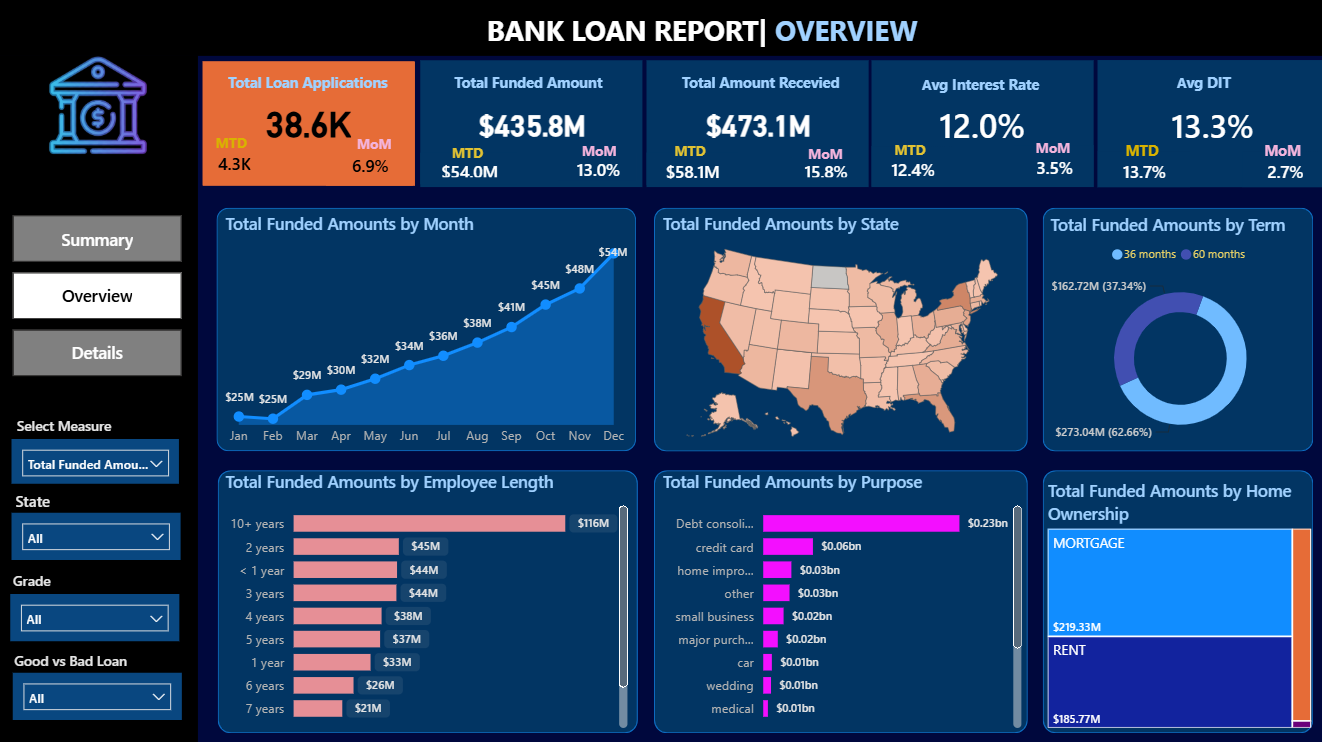

The dashboard page shown, as its layout file describes it:
{"tool":"powerbi","page":{"name":"Overview","canvas":[1280,720],"ordinal":1},"visuals":[{"type":"cardVisual","fields":{"Data":["financial_loan.Total Funded Amounts"]},"box":[406.6,59,214.1,122.1],"z":0,"group":"g1"},{"type":"cardVisual","fields":{"Data":["financial_loan.Avg DTI"]},"box":[1060.7,59,220.1,122.1],"z":0,"group":"g3"},{"type":"cardVisual","fields":{"Data":["financial_loan.Total Amount Received"]},"box":[624.7,59.1,214,122],"z":0,"group":"g4"},{"type":"cardVisual","fields":{"Data":["financial_loan.Total Loan Applications"]},"box":[196.2,59.9,204.6,119.8],"z":0},{"type":"cardVisual","fields":{"Data":["financial_loan.Avg Interest Rate"]},"box":[841.9,59,214.1,122.1],"z":1000,"group":"g2"},{"type":"textbox","box":[434,65.9,172.9,32.9],"z":1000,"group":"g1"},{"type":"textbox","box":[653.5,66,183.9,38.4],"z":1000,"group":"g4"},{"type":"cardVisual","fields":{"Data":["financial_loan.MTD Avg DIT"]},"box":[1060.7,146.8,88.9,34.3],"z":1000,"group":"g3"},{"type":"shape","box":[209.9,201.7,405,235],"z":1000},{"type":"shape","box":[0,0,1280,54.9],"z":2000},{"type":"cardVisual","fields":{"Data":["financial_loan.MoM Avg DIT"]},"box":[1200.4,146.8,80.4,34.3],"z":2000,"group":"g3"},{"type":"cardVisual","title":"MTD ","fields":{"Data":["financial_loan.MTD Amount Recevied"]},"box":[624.7,148.3,87.8,31.6],"z":2000,"group":"g4"},{"type":"cardVisual","title":"MTD ","fields":{"Data":["financial_loan.MTD Funded Amount"]},"box":[406.6,148.4,93.7,30.2],"z":2000,"group":"g1"},{"type":"textbox","box":[1081.9,131.7,48,34.3],"z":3000,"group":"g3"},{"type":"cardVisual","title":"MoM","fields":{"Data":["financial_loan.MoM Loan Applications"]},"box":[315.7,137.1,83.5,42.1],"z":3000},{"type":"cardVisual","title":"MTD ","fields":{"Data":["financial_loan.MoM Funded Amount"]},"box":[533.9,143.4,86.7,37.8],"z":3000,"group":"g1"},{"type":"cardVisual","title":"MTD ","fields":{"Data":["financial_loan.MoM Amount Recevied"]},"box":[757.8,148.3,79.6,30.2],"z":3000,"group":"g4"},{"type":"shape","box":[0,54.9,192.1,665.5],"z":4000},{"type":"textbox","box":[1215.9,131.7,52.2,34.3],"z":4000,"group":"g3"},{"type":"textbox","box":[557.7,132,51.8,29],"z":4000,"group":"g1"},{"type":"textbox","box":[775.6,134.6,45.3,31.6],"z":4000,"group":"g4"},{"type":"textbox","box":[1132.1,65.9,130.4,34.3],"z":5000,"group":"g3"},{"type":"textbox","box":[216.4,66.9,172.8,32.3],"z":5000},{"type":"textbox","box":[646.7,133.2,43.9,32.9],"z":5000,"group":"g4"},{"type":"textbox","box":[431.8,133.3,46.2,32.7],"z":5000,"group":"g1"},{"type":"cardVisual","title":"MTD ","fields":{"Data":["financial_loan.MTD Loan Applications"]},"box":[197.7,135.7,57.6,42.1],"z":6000},{"type":"textbox","box":[466,7.2,427.1,47.6],"z":7000},{"type":"textbox","box":[885.8,67.2,172.9,34.3],"z":7000,"group":"g2"},{"type":"textbox","box":[340.3,125.7,59,30.2],"z":8000},{"type":"cardVisual","fields":{"Data":["financial_loan.MoM Interest rate"]},"box":[979.1,141.3,76.8,39.8],"z":8000,"group":"g2"},{"type":"textbox","box":[203.4,124.5,49,29.5],"z":9000},{"type":"cardVisual","fields":{"Data":["financial_loan.MTD Avg Interest rate"]},"box":[841.9,142.7,78.2,38.4],"z":9000,"group":"g2"},{"type":"group","id":"g1","title":"Group 3","box":[406.6,59,214.1,122.1],"z":10000},{"type":"textbox","box":[995.6,129,52.1,28.8],"z":10000,"group":"g2"},{"type":"group","id":"g2","title":"Group 5","box":[841.9,59,216.8,122.1],"z":11000},{"type":"textbox","box":[858.4,131.7,46.7,32.9],"z":11000,"group":"g2"},{"type":"group","id":"g3","title":"Group 4","box":[1060.7,59,219.6,122.1],"z":12000},{"type":"group","id":"g4","title":"Group 1","box":[624.7,59.1,214.1,122.1],"z":13000},{"type":"slicer","fields":{"Values":["financial_loan.address_state"]},"box":[11.8,495.7,162.9,45.8],"z":14000},{"type":"textbox","box":[10.6,469.2,66.4,35],"z":15000},{"type":"slicer","fields":{"Values":["financial_loan.grade"]},"box":[10.6,574.1,162.9,45.8],"z":16000},{"type":"slicer","fields":{"Values":["financial_loan.Good vs Bad Loan"]},"box":[13,650.1,162.9,45.8],"z":17000},{"type":"textbox","box":[8.2,547.6,73.6,35],"z":18000},{"type":"textbox","box":[9.4,624.6,133.9,35],"z":19000},{"type":"areaChart","fields":{"Y":["financial_loan.Total Amount Received"],"Category":["Date Table.Month"]},"box":[213.5,204.9,398.2,235.2],"z":20000},{"type":"slicer","fields":{"Values":["Select Measure.Select Measure"]},"box":[11.8,424.5,161.7,43.4],"z":21000},{"type":"textbox","box":[11.8,397.8,102.5,51.9],"z":22000},{"type":"shape","box":[631.9,202,360.7,235.2],"z":23000},{"type":"shapeMap","fields":{"Value":["financial_loan.Total Amount Received"],"Category":["financial_loan.address_state"]},"box":[636.3,204.9,356.4,232.3],"z":24000},{"type":"shape","box":[1007,202,261.1,235.2],"z":25000},{"type":"donutChart","fields":{"Y":["financial_loan.Total Amount Received"],"Category":["financial_loan.term"]},"box":[1009.9,206.3,261.1,232.3],"z":26000},{"type":"shape","box":[210.6,454.5,405.4,253.9],"z":27000},{"type":"barChart","fields":{"Y":["financial_loan.Total Amount Received"],"Category":["financial_loan.emp_length"]},"box":[213.5,454.5,398.2,253.9],"z":28000},{"type":"shape","box":[631.9,454.5,360.7,253.9],"z":29000},{"type":"barChart","fields":{"Y":["financial_loan.Total Amount Received"],"Category":["financial_loan.purpose"]},"box":[636.3,454.5,356.4,253.9],"z":30000},{"type":"shape","box":[1007,454.5,261.1,253.9],"z":31000},{"type":"treemap","fields":{"Values":["financial_loan.Total Amount Received"],"Group":["financial_loan.home_ownership"]},"box":[1007,463.1,264,245.3],"z":32000},{"type":"pageNavigator","box":[13,209.2,163,155.8],"z":33000},{"type":"image","box":[10.1,0,163,202],"z":34000}]}

Visuals, with their boxes in screenshot pixels (x1, y1, x2, y2), scaled from the page's 1280x720 canvas onto the 1322x742 screenshot:
cardVisual - financial_loan.Total Funded Amounts: (x1=420, y1=61, x2=641, y2=187)
cardVisual - financial_loan.Avg DTI: (x1=1096, y1=61, x2=1321, y2=187)
cardVisual - financial_loan.Total Amount Received: (x1=645, y1=61, x2=866, y2=187)
cardVisual - financial_loan.Total Loan Applications: (x1=203, y1=62, x2=414, y2=185)
cardVisual - financial_loan.Avg Interest Rate: (x1=870, y1=61, x2=1091, y2=187)
textbox: (x1=448, y1=68, x2=627, y2=102)
textbox: (x1=675, y1=68, x2=865, y2=108)
cardVisual - financial_loan.MTD Avg DIT: (x1=1096, y1=151, x2=1187, y2=187)
shape: (x1=217, y1=208, x2=635, y2=450)
shape: (x1=0, y1=0, x2=1321, y2=57)
cardVisual - financial_loan.MoM Avg DIT: (x1=1240, y1=151, x2=1321, y2=187)
"MTD " cardVisual: (x1=645, y1=153, x2=736, y2=185)
"MTD " cardVisual: (x1=420, y1=153, x2=517, y2=184)
textbox: (x1=1117, y1=136, x2=1167, y2=171)
"MoM" cardVisual: (x1=326, y1=141, x2=412, y2=185)
"MTD " cardVisual: (x1=551, y1=148, x2=641, y2=187)
"MTD " cardVisual: (x1=783, y1=153, x2=865, y2=184)
shape: (x1=0, y1=57, x2=198, y2=741)
textbox: (x1=1256, y1=136, x2=1310, y2=171)
textbox: (x1=576, y1=136, x2=629, y2=166)
textbox: (x1=801, y1=139, x2=848, y2=171)
textbox: (x1=1169, y1=68, x2=1304, y2=103)
textbox: (x1=224, y1=69, x2=402, y2=102)
textbox: (x1=668, y1=137, x2=713, y2=171)
textbox: (x1=446, y1=137, x2=494, y2=171)
"MTD " cardVisual: (x1=204, y1=140, x2=264, y2=183)
textbox: (x1=481, y1=7, x2=922, y2=56)
textbox: (x1=915, y1=69, x2=1093, y2=105)
textbox: (x1=351, y1=130, x2=412, y2=161)
cardVisual - financial_loan.MoM Interest rate: (x1=1011, y1=146, x2=1091, y2=187)
textbox: (x1=210, y1=128, x2=261, y2=159)
cardVisual - financial_loan.MTD Avg Interest rate: (x1=870, y1=147, x2=950, y2=187)
"Group 3" group: (x1=420, y1=61, x2=641, y2=187)
textbox: (x1=1028, y1=133, x2=1082, y2=163)
"Group 5" group: (x1=870, y1=61, x2=1093, y2=187)
textbox: (x1=887, y1=136, x2=935, y2=170)
"Group 4" group: (x1=1096, y1=61, x2=1321, y2=187)
"Group 1" group: (x1=645, y1=61, x2=866, y2=187)
slicer - financial_loan.address_state: (x1=12, y1=511, x2=180, y2=558)
textbox: (x1=11, y1=484, x2=80, y2=520)
slicer - financial_loan.grade: (x1=11, y1=592, x2=179, y2=639)
slicer - financial_loan.Good vs Bad Loan: (x1=13, y1=670, x2=182, y2=717)
textbox: (x1=8, y1=564, x2=84, y2=600)
textbox: (x1=10, y1=644, x2=148, y2=680)
areaChart - financial_loan.Total Amount Received x Date Table.Month: (x1=221, y1=211, x2=632, y2=454)
slicer - Select Measure.Select Measure: (x1=12, y1=437, x2=179, y2=482)
textbox: (x1=12, y1=410, x2=118, y2=463)
shape: (x1=653, y1=208, x2=1025, y2=451)
shapeMap - financial_loan.Total Amount Received x financial_loan.address_state: (x1=657, y1=211, x2=1025, y2=451)
shape: (x1=1040, y1=208, x2=1310, y2=451)
donutChart - financial_loan.Total Amount Received x financial_loan.term: (x1=1043, y1=213, x2=1313, y2=452)
shape: (x1=218, y1=468, x2=636, y2=730)
barChart - financial_loan.Total Amount Received x financial_loan.emp_length: (x1=221, y1=468, x2=632, y2=730)
shape: (x1=653, y1=468, x2=1025, y2=730)
barChart - financial_loan.Total Amount Received x financial_loan.purpose: (x1=657, y1=468, x2=1025, y2=730)
shape: (x1=1040, y1=468, x2=1310, y2=730)
treemap - financial_loan.Total Amount Received x financial_loan.home_ownership: (x1=1040, y1=477, x2=1313, y2=730)
pageNavigator: (x1=13, y1=216, x2=182, y2=376)
image: (x1=10, y1=0, x2=179, y2=208)
